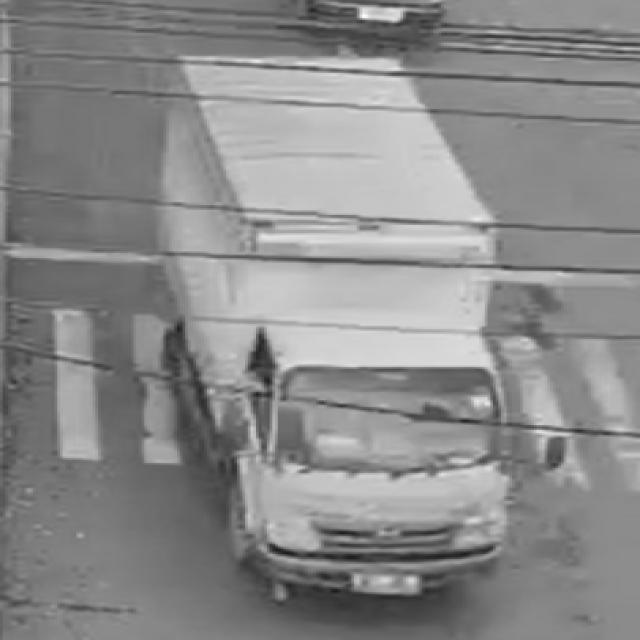Truck: (122, 41, 584, 613)
